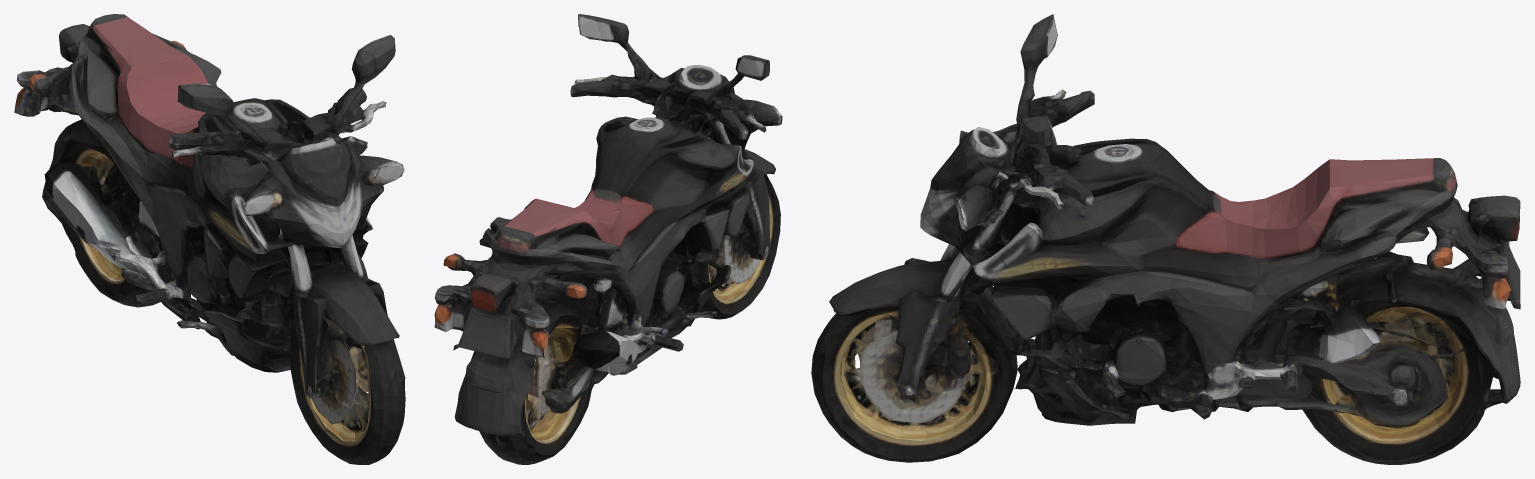
The model's file is IRFZ-S 150.glb.
3 renders of one model, left to right at view 1: azimuth 30°, elevation 25°; view 2: azimuth 150°, elevation 25°; view 3: azimuth 270°, elevation 25°, orthographic. The views are drawn at different scales.
Parts seen in each view (by area): view 1: world; view 2: world; view 3: world.
Boxes of the visible parts, left/top/right/bottom form: world: left=14, top=14, right=405, bottom=464; world: left=434, top=14, right=782, bottom=464; world: left=811, top=14, right=1520, bottom=464.
Bounding box in the file's own units: 0.3877 × 0.6072 × 0.9994.
Materials: 1 (1 with a texture image).
